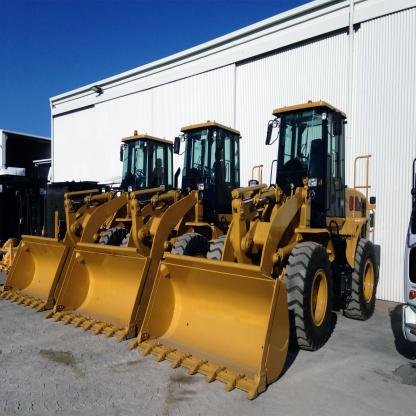bull_dozer/loader/grader: (75, 104, 368, 367)
